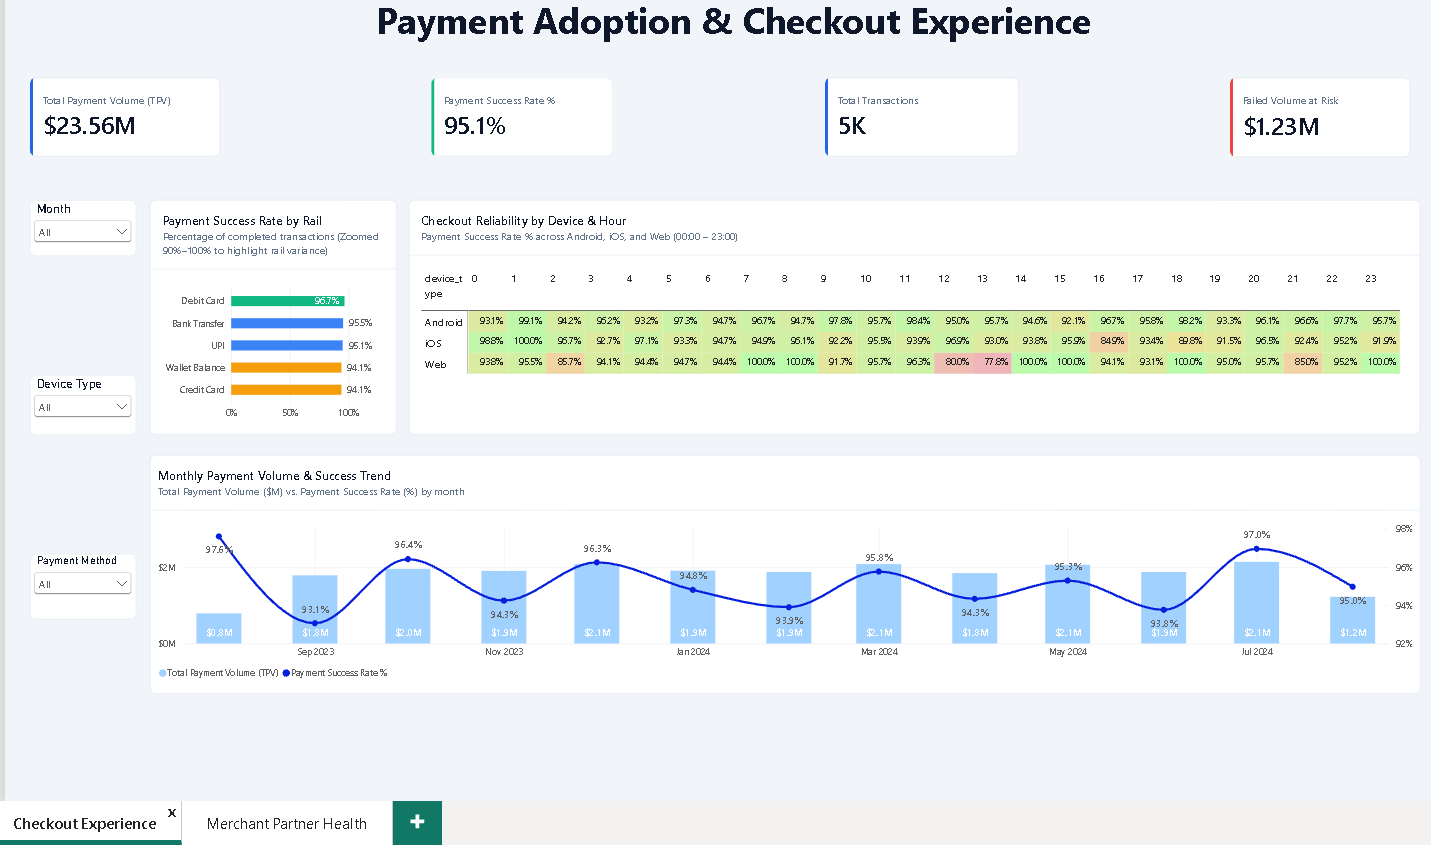

The page's visual inventory and layout, read from the dashboard file:
{"tool":"powerbi","page":{"name":"Checkout Experience","canvas":[1920,1080],"ordinal":0},"visuals":[{"type":"textbox","box":[440.4,0,1071.5,82.7],"z":0},{"type":"cardVisual","fields":{"Data":["_Measures.Total Payment Volume (TPV)"]},"box":[34.2,110,255.3,106.1],"z":1},{"type":"cardVisual","fields":{"Data":["_Measures.Payment Success Rate %"]},"box":[571.7,110,244.5,106.1],"z":2},{"type":"cardVisual","fields":{"Data":["_Measures.Total Transactions"]},"box":[1098.4,110,260.7,106.1],"z":3},{"type":"cardVisual","fields":{"Data":["_Measures.Failed Volume at Risk"]},"box":[1641.3,110,242.7,107.9],"z":4},{"type":"slicer","fields":{"Values":["cleaned_wallet_transactions.txn_month"]},"box":[34.2,275.1,142,75.5],"z":5},{"type":"slicer","fields":{"Values":["cleaned_wallet_transactions.payment_method"]},"box":[34.2,747.9,142,88.1],"z":6},{"type":"slicer","fields":{"Values":["cleaned_wallet_transactions.device_type"]},"box":[34.2,508.8,142,80.9],"z":7},{"type":"clusteredBarChart","title":"Payment Success Rate by Rail","fields":{"Category":["cleaned_wallet_transactions.payment_method"],"Y":["_Measures.Payment Success Rate %"]},"box":[194.2,275.1,330.8,314.6],"z":8},{"type":"pivotTable","title":"Checkout Reliability by Device & Hour","fields":{"Columns":["cleaned_wallet_transactions.txn_hour"],"Rows":["cleaned_wallet_transactions.device_type"],"Values":["_Measures.Payment Success Rate %"]},"box":[541.1,275.1,1355.5,314.6],"z":9},{"type":"lineStackedColumnComboChart","title":"Monthly Payment Volume & Success Trend","fields":{"Category":["cleaned_wallet_transactions.txn_month"],"Y":["_Measures.Total Payment Volume (TPV)"],"Y2":["_Measures.Payment Success Rate %"]},"box":[194.2,616.6,1702.5,320],"z":10}]}

Visuals, with their boxes on the page's 1920x1080 design canvas (x1, y1, x2, y2). These are canvas units, not pixel positions in the 1431x845 screenshot, which may show the page scaled, cropped or inside an application window:
textbox: pyautogui.locateOnScreen(440, 0, 1512, 83)
cardVisual - _Measures.Total Payment Volume (TPV): pyautogui.locateOnScreen(34, 110, 290, 216)
cardVisual - _Measures.Payment Success Rate %: pyautogui.locateOnScreen(572, 110, 816, 216)
cardVisual - _Measures.Total Transactions: pyautogui.locateOnScreen(1098, 110, 1359, 216)
cardVisual - _Measures.Failed Volume at Risk: pyautogui.locateOnScreen(1641, 110, 1884, 218)
slicer - cleaned_wallet_transactions.txn_month: pyautogui.locateOnScreen(34, 275, 176, 351)
slicer - cleaned_wallet_transactions.payment_method: pyautogui.locateOnScreen(34, 748, 176, 836)
slicer - cleaned_wallet_transactions.device_type: pyautogui.locateOnScreen(34, 509, 176, 590)
"Payment Success Rate by Rail" clusteredBarChart: pyautogui.locateOnScreen(194, 275, 525, 590)
"Checkout Reliability by Device & Hour" pivotTable: pyautogui.locateOnScreen(541, 275, 1897, 590)
"Monthly Payment Volume & Success Trend" lineStackedColumnComboChart: pyautogui.locateOnScreen(194, 617, 1897, 937)
